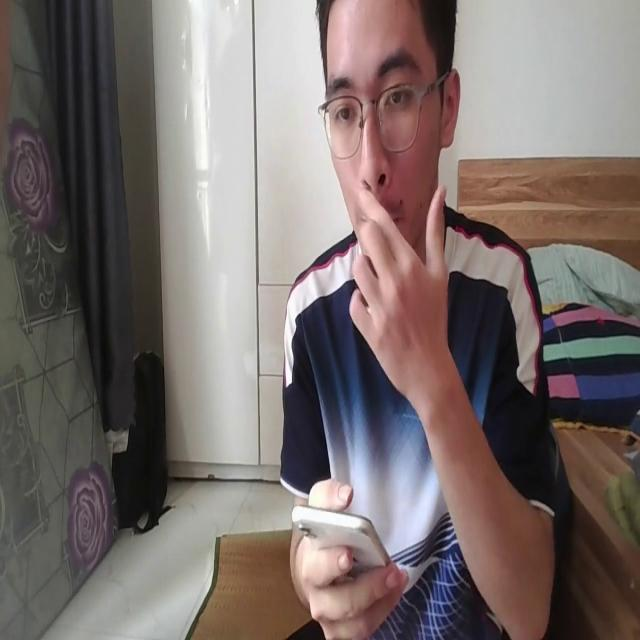phone: (288, 499, 402, 578)
student: (281, 2, 556, 640)
